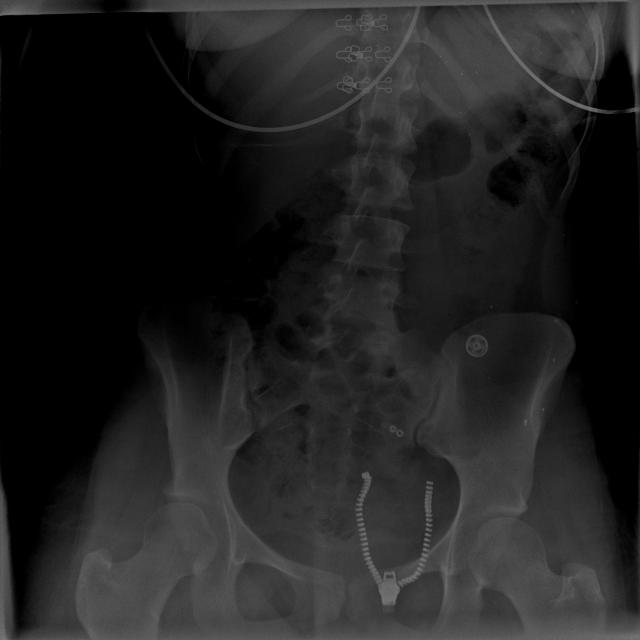normal-left: (468, 517, 605, 640)
normal-right: (75, 502, 218, 640)
